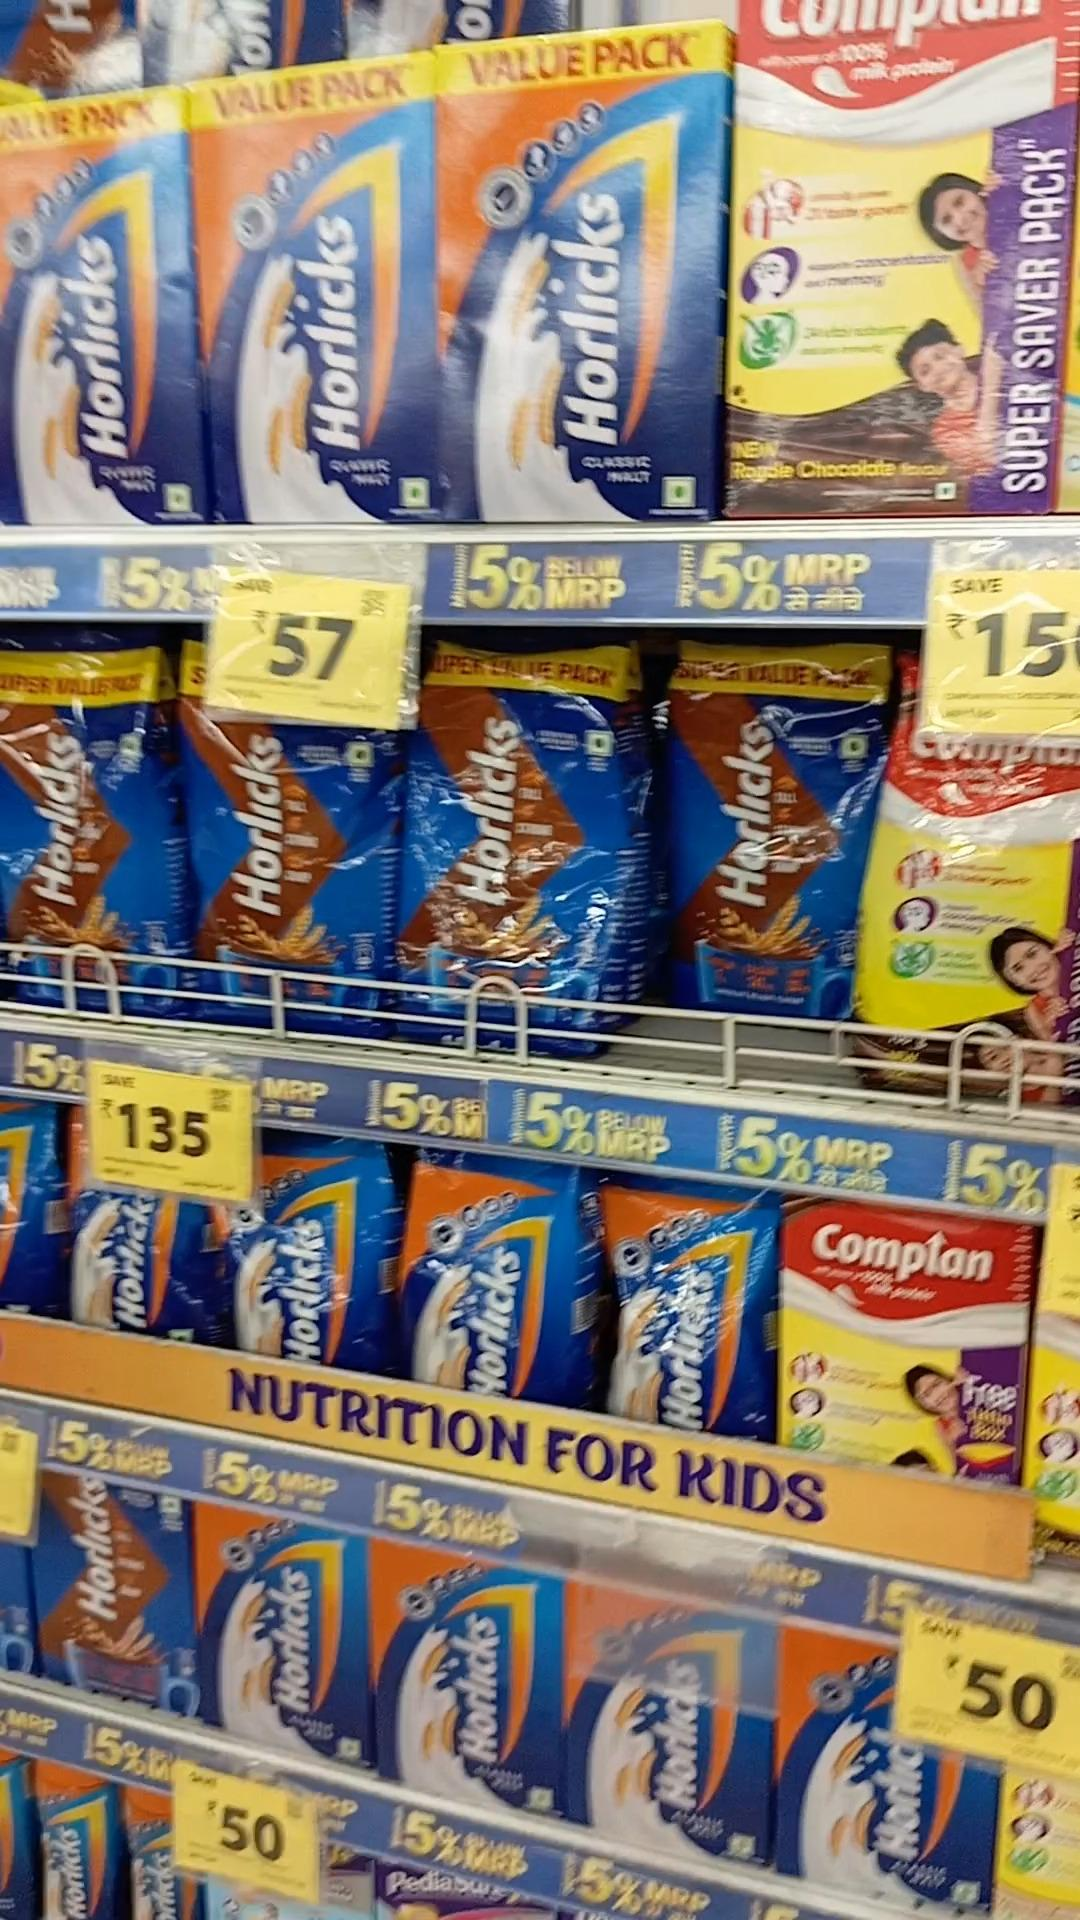COMPLAN_CHOCOLATE_1_KG_PACK: (733, 0, 1059, 513)
COMPLAN_CHOCOLATE_500_GMS_PACK: (779, 1195, 1025, 1473)
COMPLAN_RC_POUCH_700_GMS_12: (869, 735, 1080, 1105)
HORLICK_CHOCOLATE_500_G_PACK: (28, 1473, 186, 1721)
HORLICK_CHOCOLATE_750_G_POUCH: (671, 636, 866, 1025), (405, 650, 595, 1050), (0, 633, 165, 1022), (189, 723, 384, 1036)
HORLICK_CLASSIC_MALT_500_G_PACK: (567, 1588, 769, 1855), (785, 1627, 968, 1905), (373, 1539, 558, 1815), (206, 1509, 363, 1764)
HORLICK_CLASSIC_MALT_750_G_POUCH: (397, 1145, 582, 1394), (609, 1183, 765, 1433), (218, 1133, 371, 1369)
